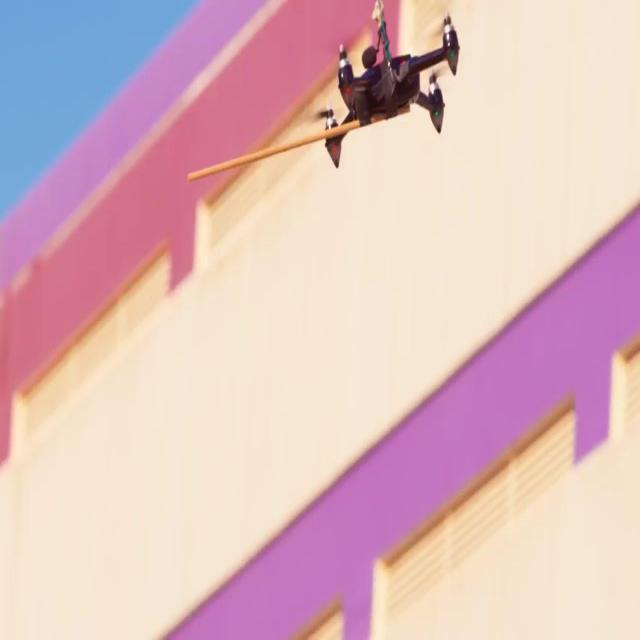drone: (309, 9, 461, 170)
